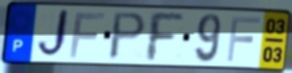9: (192, 12, 225, 64)
F: (146, 10, 186, 64), (67, 11, 107, 59), (225, 15, 262, 64)
J: (35, 7, 71, 61)
P: (106, 11, 148, 62)
